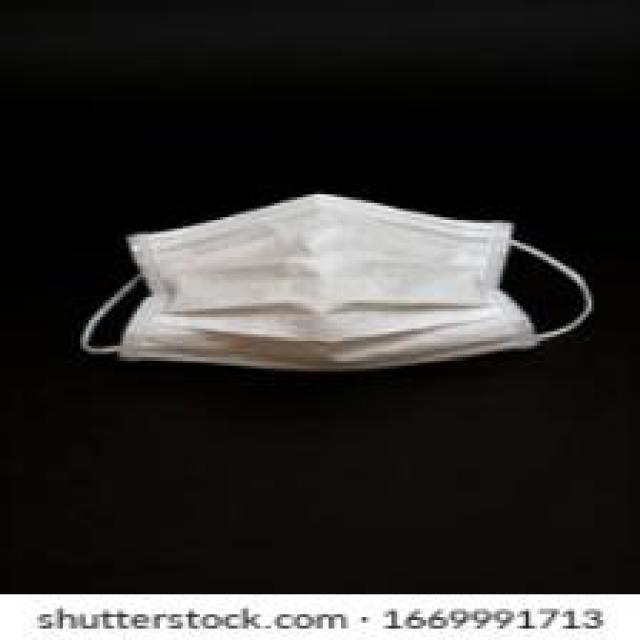Mask: (84, 193, 610, 392)
